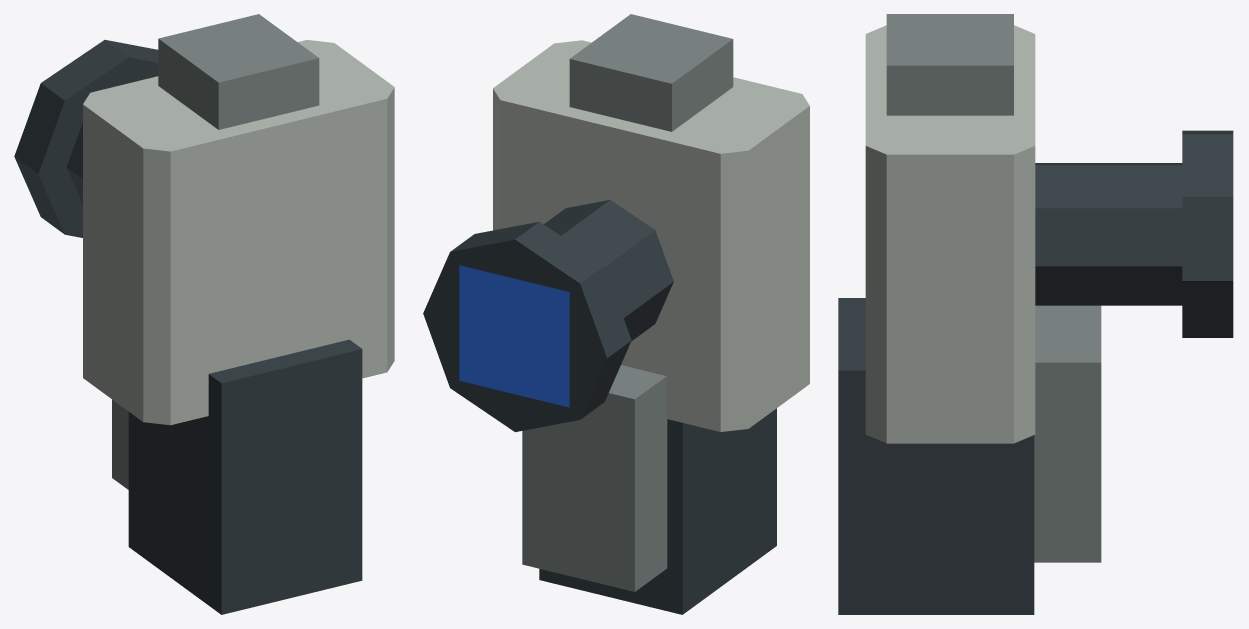
3 renders of one model, left to right at view 1: azimuth 30°, elevation 25°; view 2: azimuth 150°, elevation 25°; view 3: azimuth 270°, elevation 25°, orthographic. The views are drawn at different scales.
Visible parts, largest first — view 1: mount; view 2: mount; view 3: mount.
Part boxes in pixels (x1,y1,x2,y2): mount: (14, 14, 394, 614); mount: (423, 14, 809, 614); mount: (838, 14, 1233, 614).
Bounding box in the file's own units: 6.5 × 12.61 × 8.41.
